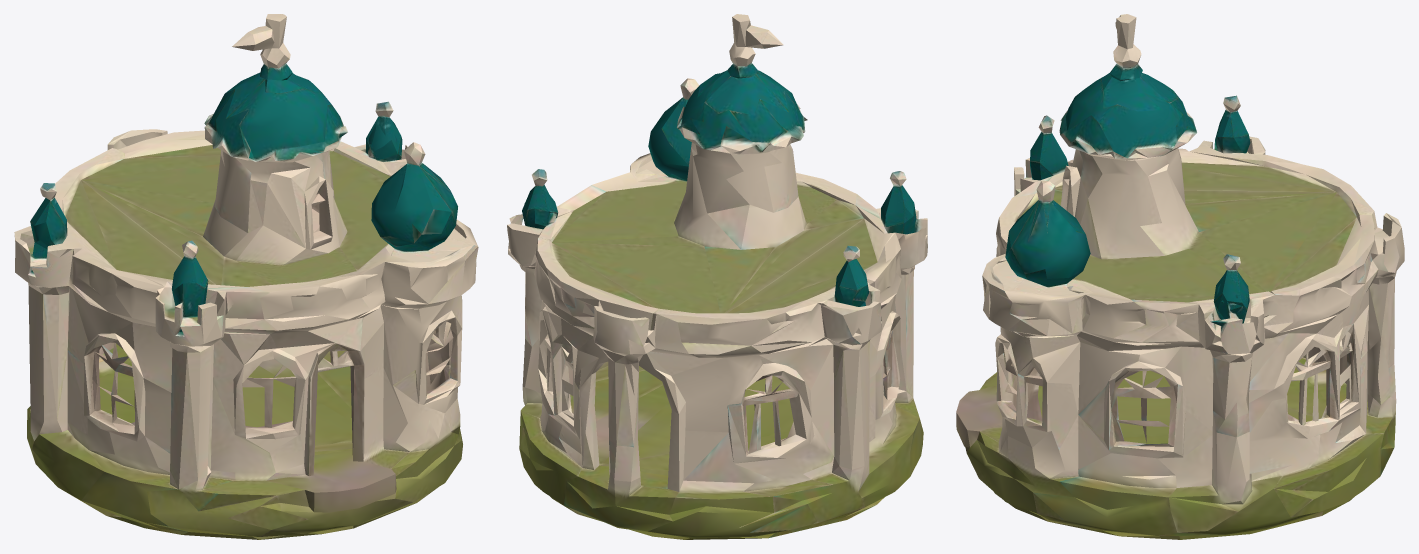
The model's file is prop-castle.glb.
3 renders of one model, left to right at view 1: azimuth 30°, elevation 25°; view 2: azimuth 150°, elevation 25°; view 3: azimuth 270°, elevation 25°, orthographic. The views are drawn at different scales.
Bounding box in the file's own units: 0.2707 × 0.3 × 0.2767.
1 material, 1 textured.
